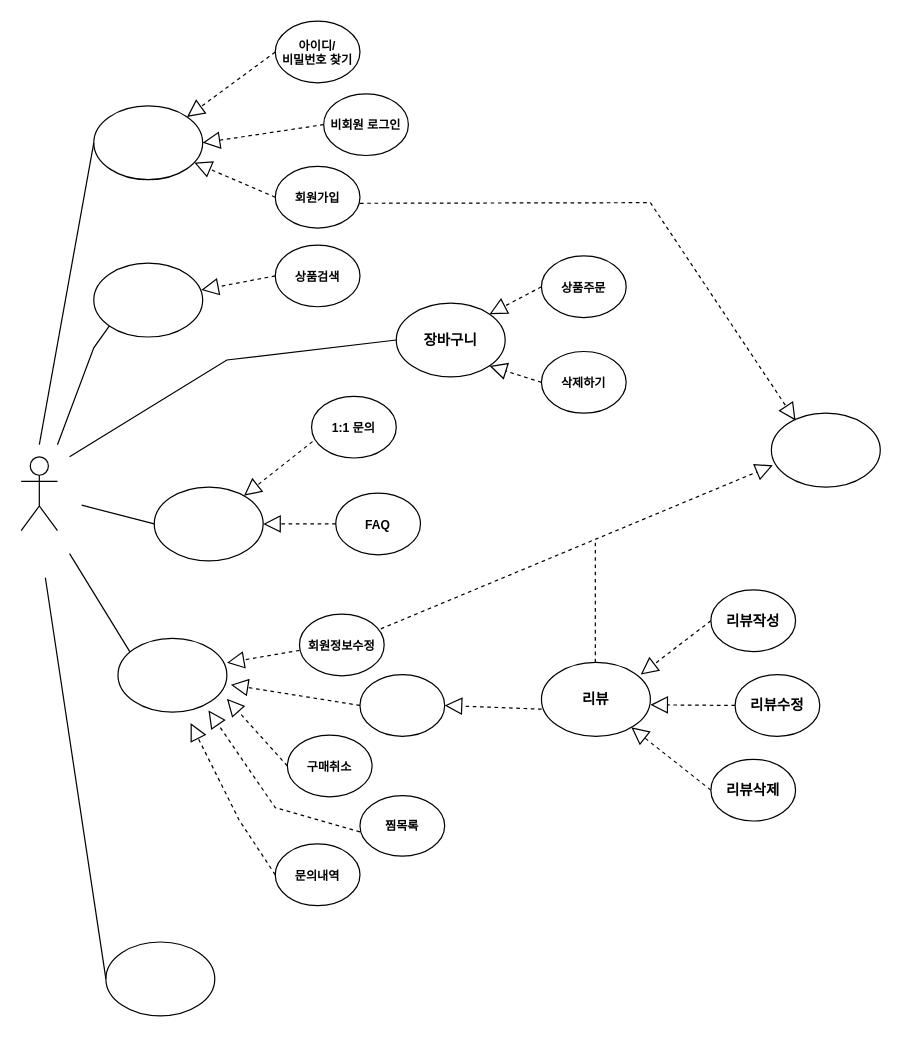
The diagram is 901 pixels wide and 1037 high, and some of its shapes have lost their labels. Here are the shapes that lost their labels. From the top down, the centre of each, then its label:
At point 148,142: "로그인".
At point 148,299: "검색".
At point 825,449: "인증".
At point 38,493: "Actor".
At point 208,523: "고객센터".
At point 172,674: "마이페이지".
At point 402,704: "구매내역".
At point 160,978: "공지사항".
